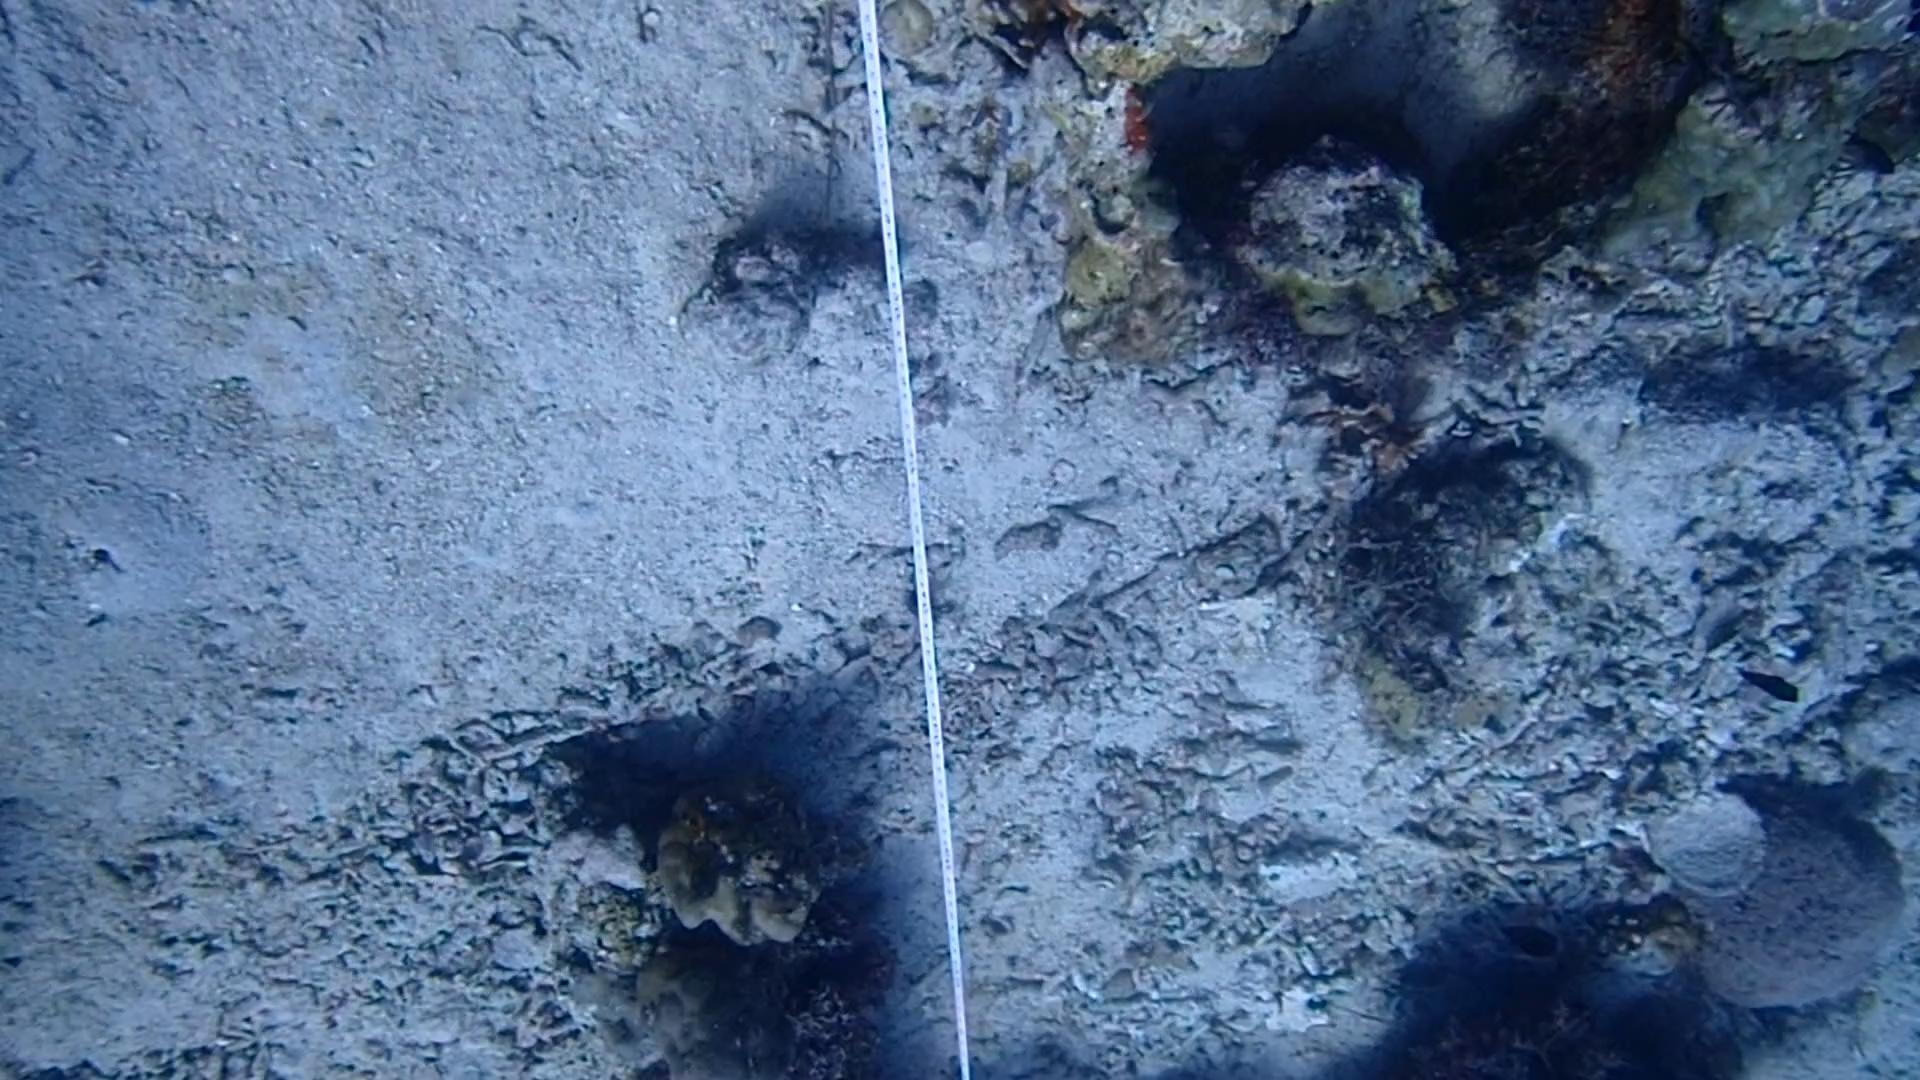Dark Fish: (1726, 657, 1811, 719), (1487, 911, 1567, 969)
